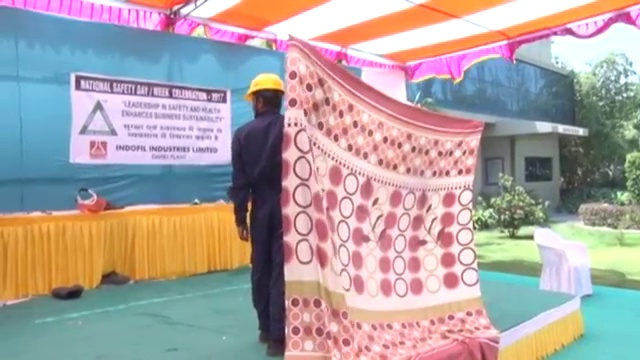helmet: (242, 72, 285, 102)
helmet_on: (241, 71, 285, 121)
person: (227, 71, 285, 356)
